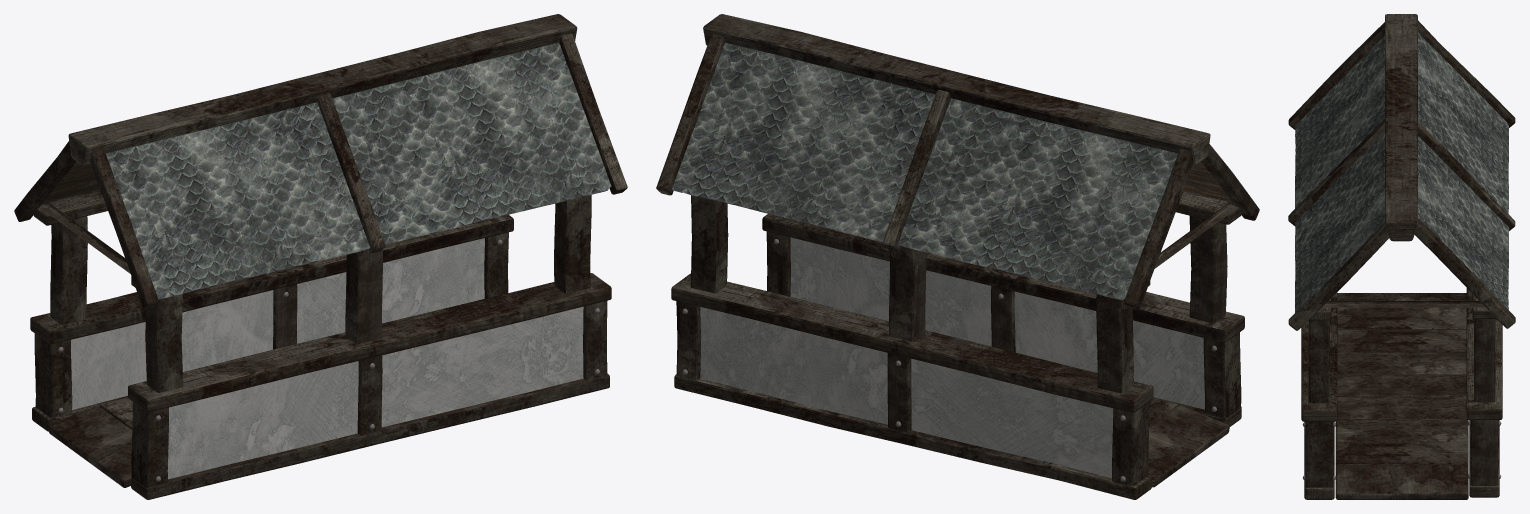
File: Walkway.fbx
The picture shows the model from 3 angles, left to right: view 1: azimuth 30°, elevation 25°; view 2: azimuth 150°, elevation 25°; view 3: azimuth 270°, elevation 25°; orthographic projection. The views are drawn at different scales.
Visible parts, largest first — view 1: Wooden Walkway; view 2: Wooden Walkway; view 3: Wooden Walkway.
Boxes of the visible parts, x1,y1,x2,y2 form: Wooden Walkway: (14, 14, 627, 499); Wooden Walkway: (656, 14, 1259, 499); Wooden Walkway: (1288, 14, 1515, 499).
Bounding box in the file's own units: 702 × 445 × 321.
